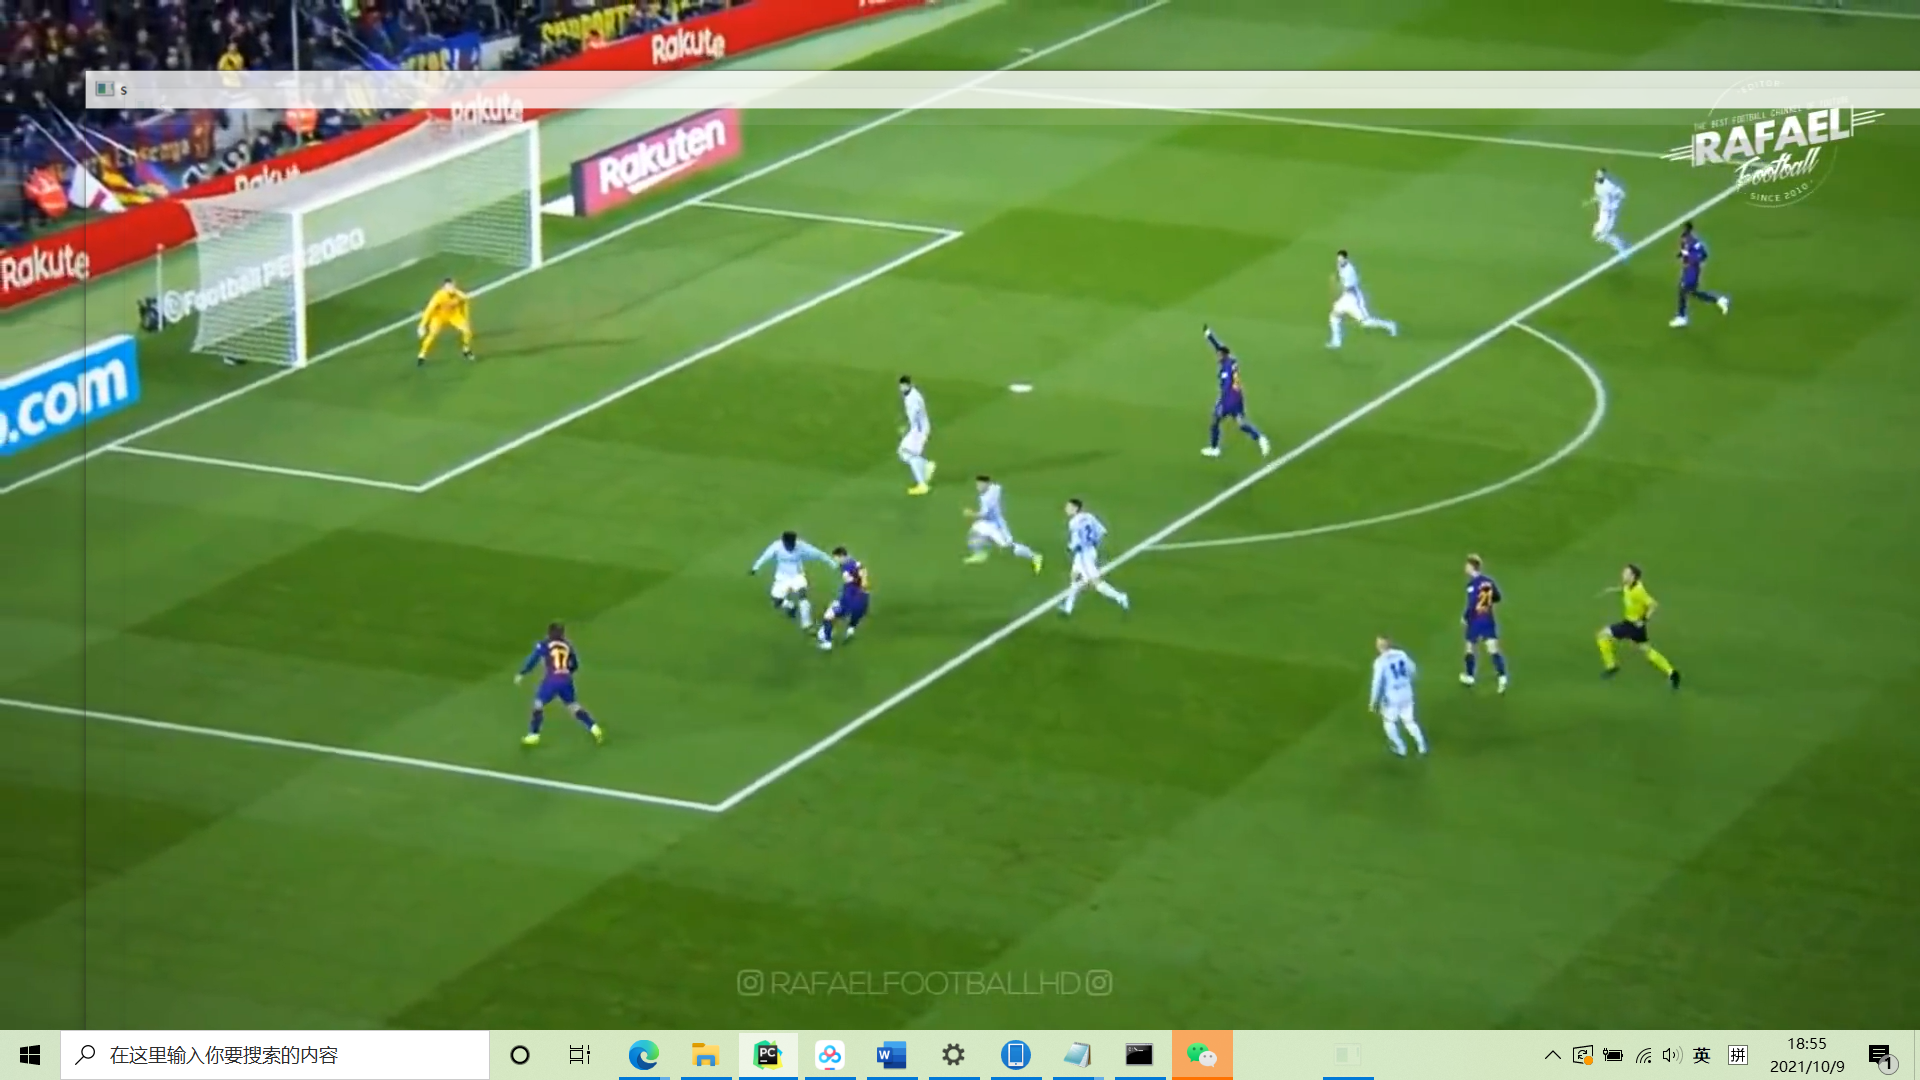ft: (818, 626, 837, 645)
